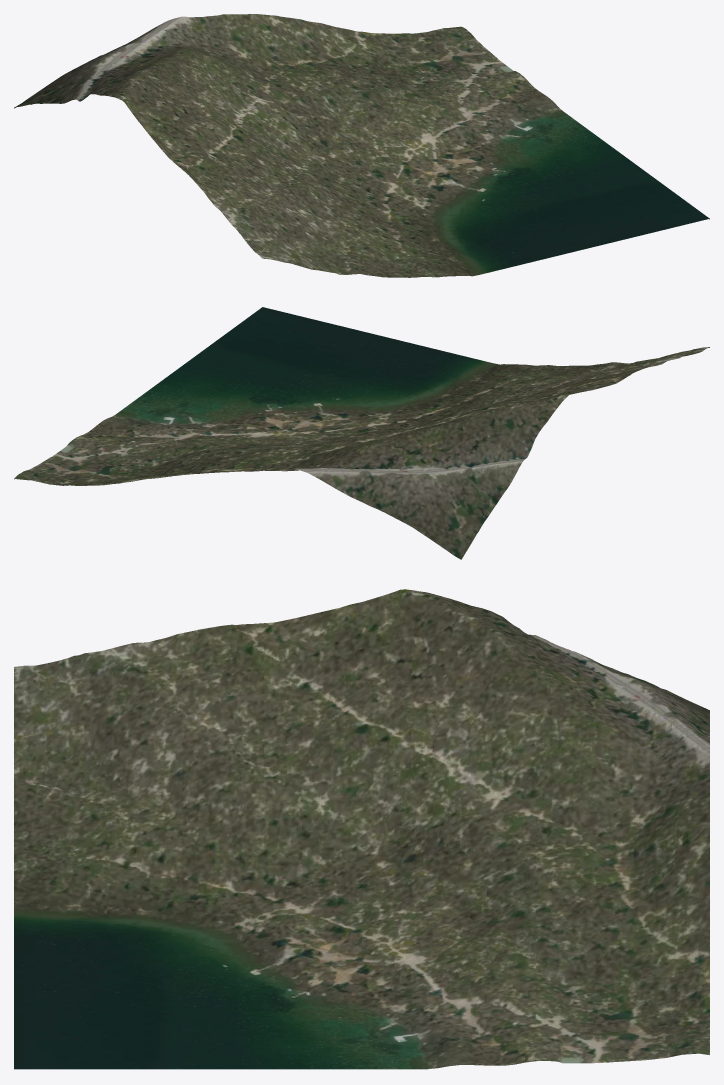
3 views of the same model, one above another, from view 1: azimuth 30°, elevation 25°; view 2: azimuth 150°, elevation 25°; view 3: azimuth 270°, elevation 25° (orthographic). The views are drawn at different scales.
Bounding box in the file's own units: 500 × 134 × 481.
1 material, 1 textured.
